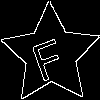F: (25, 29, 68, 83)
